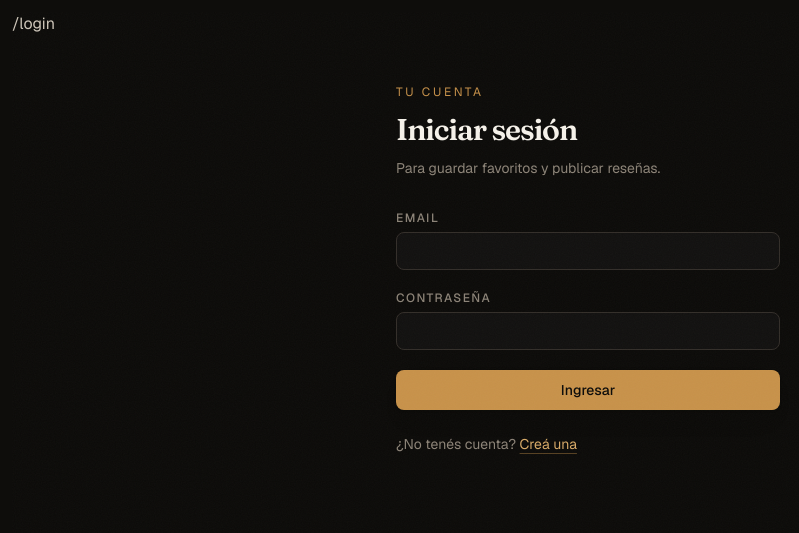
Test: LoginPage › una credencial equivocada no dice cual de las dos esta mal
Type "alguien@ejemplo.test" into the field labelled "Email".
click(588, 251); type("alguien@ejemplo.test")  # box [396,232,780,270]
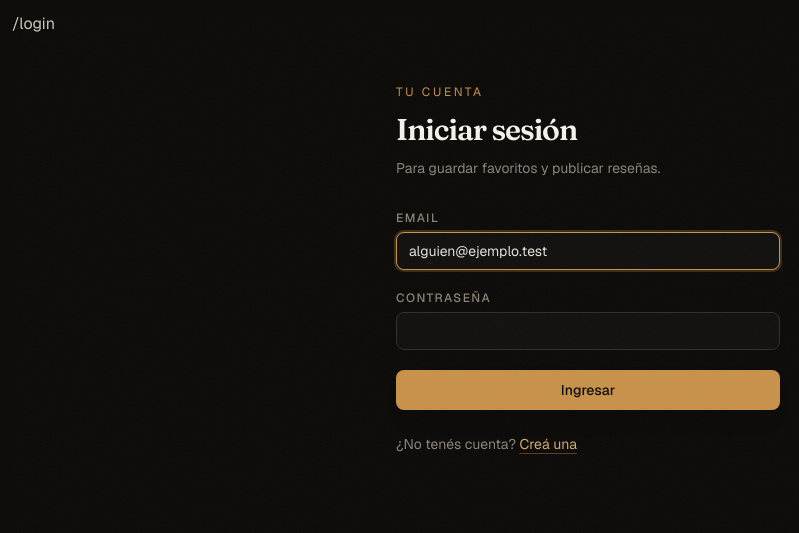
Type "Local1234" into the password field labelled "Contraseña".
click(588, 331); type("Local1234")  # box [396,312,780,350]
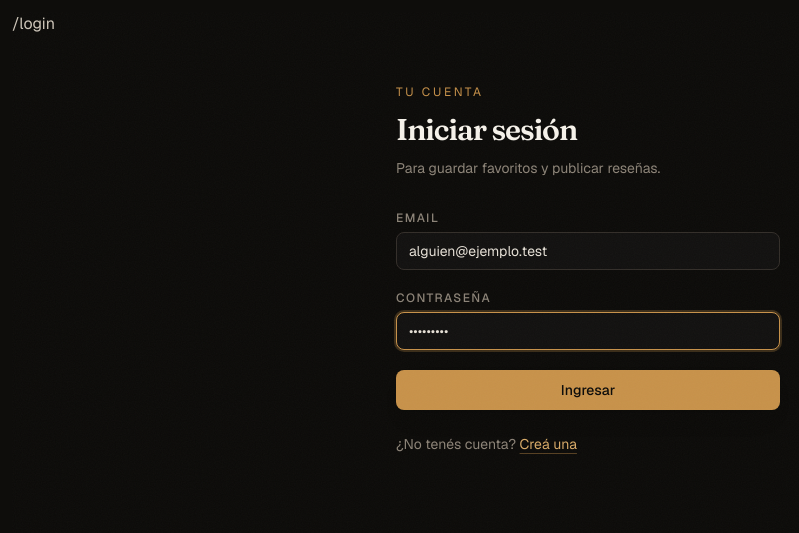
Click the button "Ingresar".
click(588, 390)  # box [396,370,780,410]
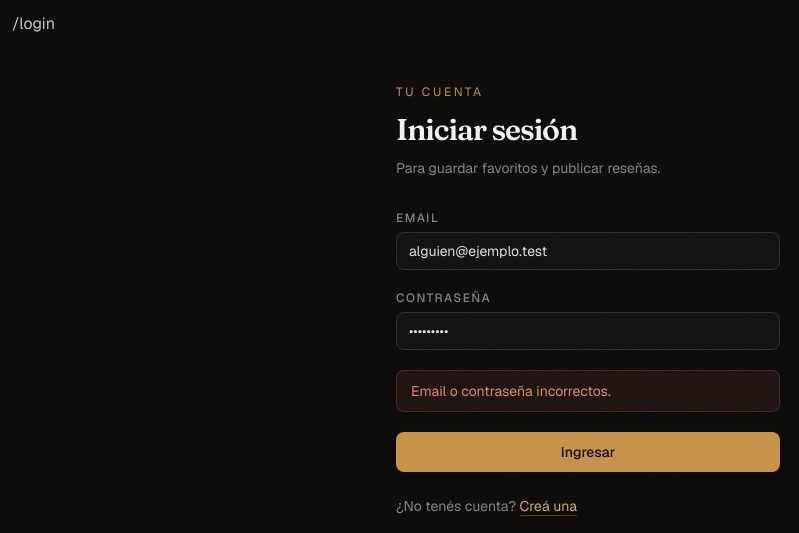
Now the message reads "Email o contraseña incorrectos.", box [411,382,611,400]
